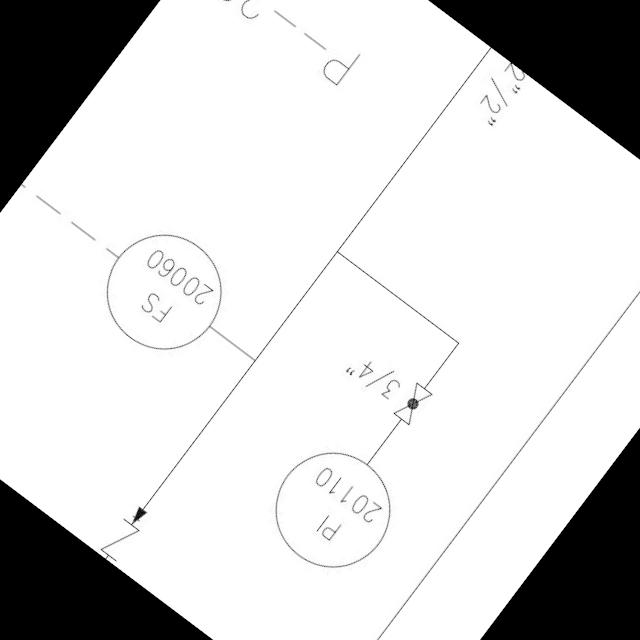BV2: (384, 373, 440, 432)
